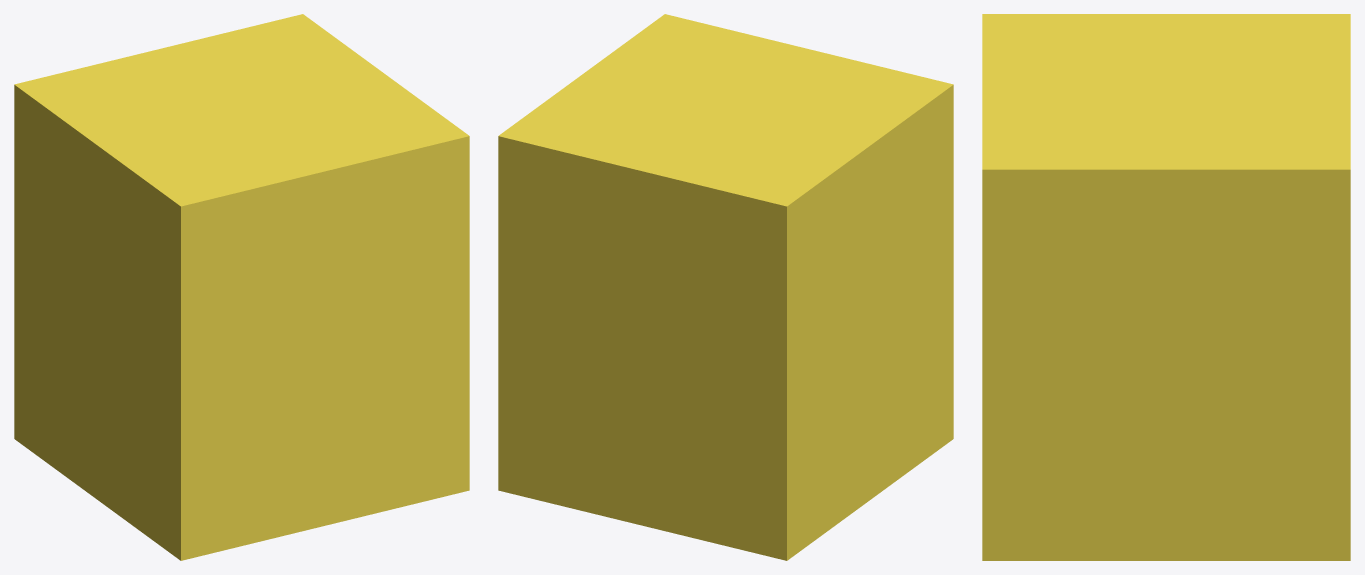
File: pescador_manga_sup.glb
3 views of the same model, side by side, from view 1: azimuth 30°, elevation 25°; view 2: azimuth 150°, elevation 25°; view 3: azimuth 270°, elevation 25° (orthographic). The views are drawn at different scales.
Visible parts, largest first — view 1: pescador_manga_sup; view 2: pescador_manga_sup; view 3: pescador_manga_sup.
Boxes of the visible parts, left/top/right/bottom form: pescador_manga_sup: left=14, top=14, right=469, bottom=560; pescador_manga_sup: left=498, top=14, right=953, bottom=560; pescador_manga_sup: left=982, top=14, right=1350, bottom=560.
Bounding box in the file's own units: 0.29 × 0.34 × 0.29.
